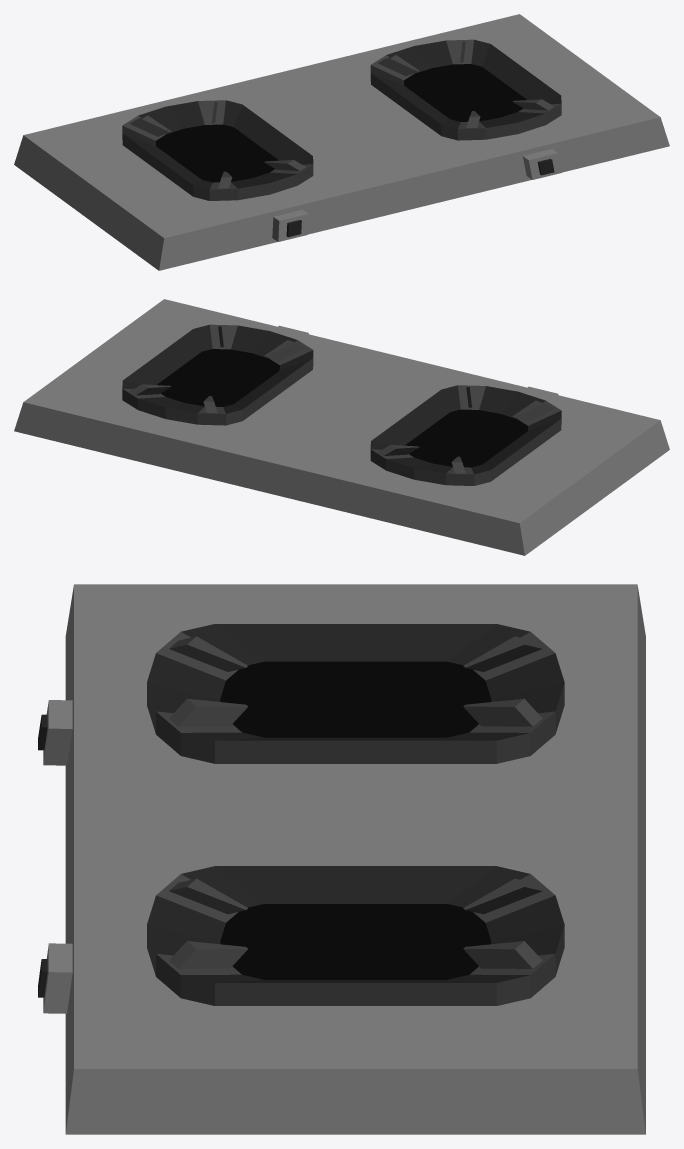
The model's file is Kompor.fbx.
3 renders of one model, top to bottom at view 1: azimuth 30°, elevation 25°; view 2: azimuth 150°, elevation 25°; view 3: azimuth 270°, elevation 25°, orthographic. The views are drawn at different scales.
Visible parts, largest first — view 1: Kompor; view 2: Kompor; view 3: Kompor.
Part boxes in pixels (left/top/right/bottom): Kompor: left=14, top=14, right=669, bottom=270; Kompor: left=14, top=299, right=669, bottom=555; Kompor: left=38, top=584, right=645, bottom=1134.
Size of the model in its own units: 295 by 25.53 by 152.
